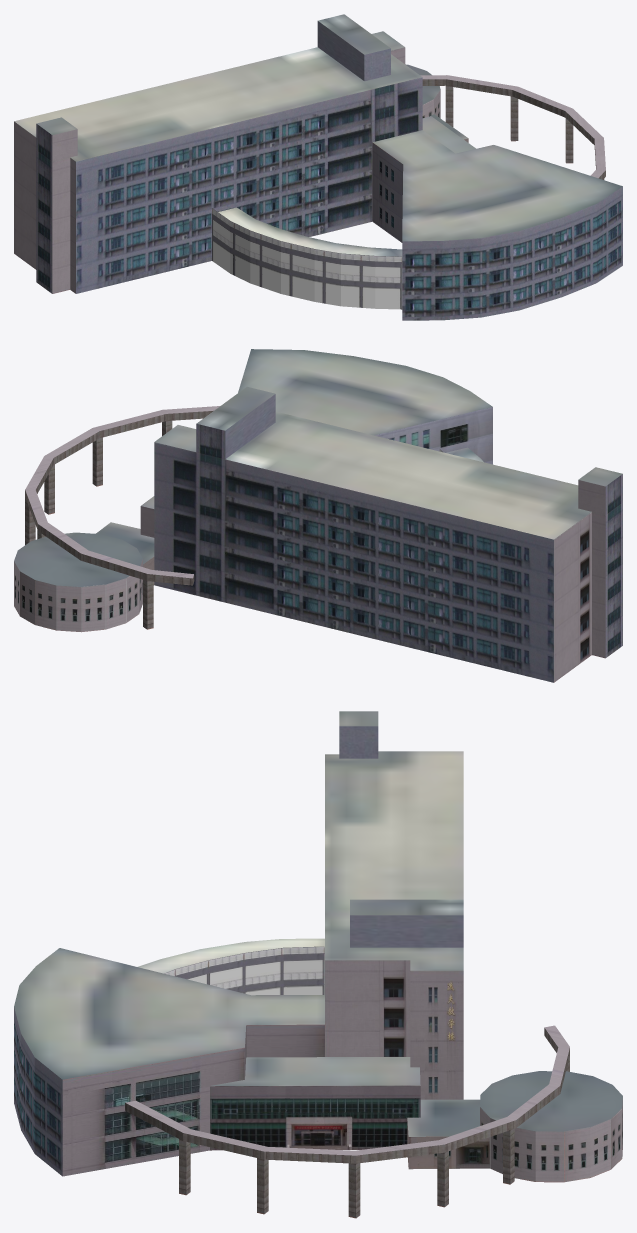
Rendered from yfl.gltf.
The picture shows the model from 3 angles, top to bottom: view 1: azimuth 30°, elevation 25°; view 2: azimuth 150°, elevation 25°; view 3: azimuth 270°, elevation 25°; orthographic projection. The views are drawn at different scales.
Visible parts, largest first — view 1: Mesh01#41, Mesh02#43; view 2: Mesh01#41, Mesh02#43, Mesh05#30; view 3: Mesh01#41, Mesh02#43.
Part boxes in pixels (left/top/right/bottom): Mesh01#41: left=14, top=14, right=622, bottom=320; Mesh02#43: left=420, top=75, right=605, bottom=179; Mesh01#41: left=14, top=349, right=622, bottom=682; Mesh02#43: left=25, top=406, right=219, bottom=585; Mesh05#30: left=143, top=580, right=153, bottom=629; Mesh01#41: left=14, top=711, right=622, bottom=1182; Mesh02#43: left=125, top=1025, right=569, bottom=1218.
Bounding box in the file's own units: 0.1043 × 0.03 × 0.0856.
Materials: 5 (4 with a texture image).
